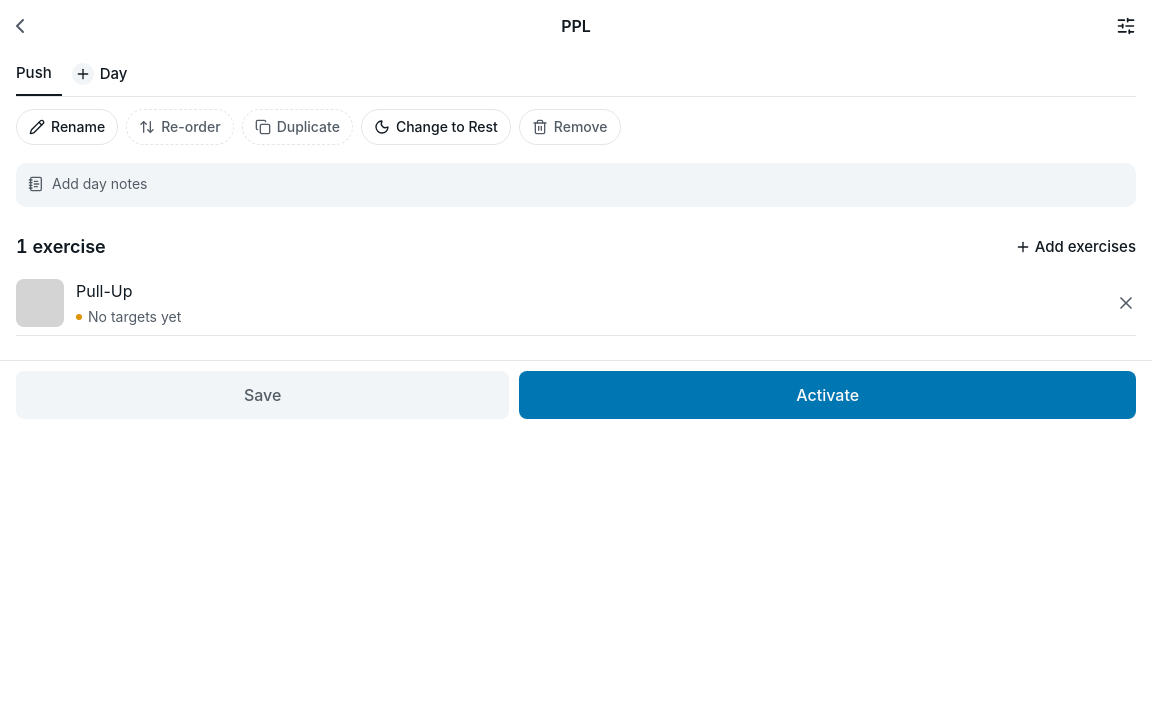
Test: ProgramEditorPage - settings drawer › Name edits the title through the draft
Click the button named "Program settings": (1114, 26) [1092,4,1136,48]
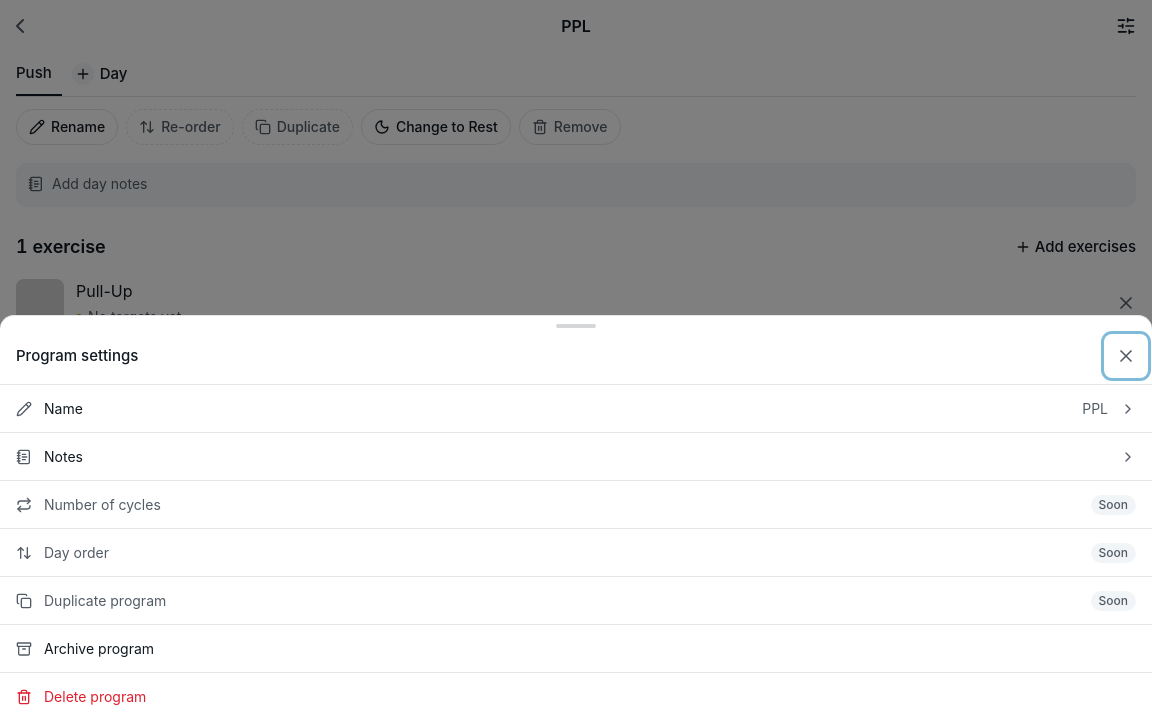
Click the button "Name PPL": (63, 408) [0,384,1151,432]
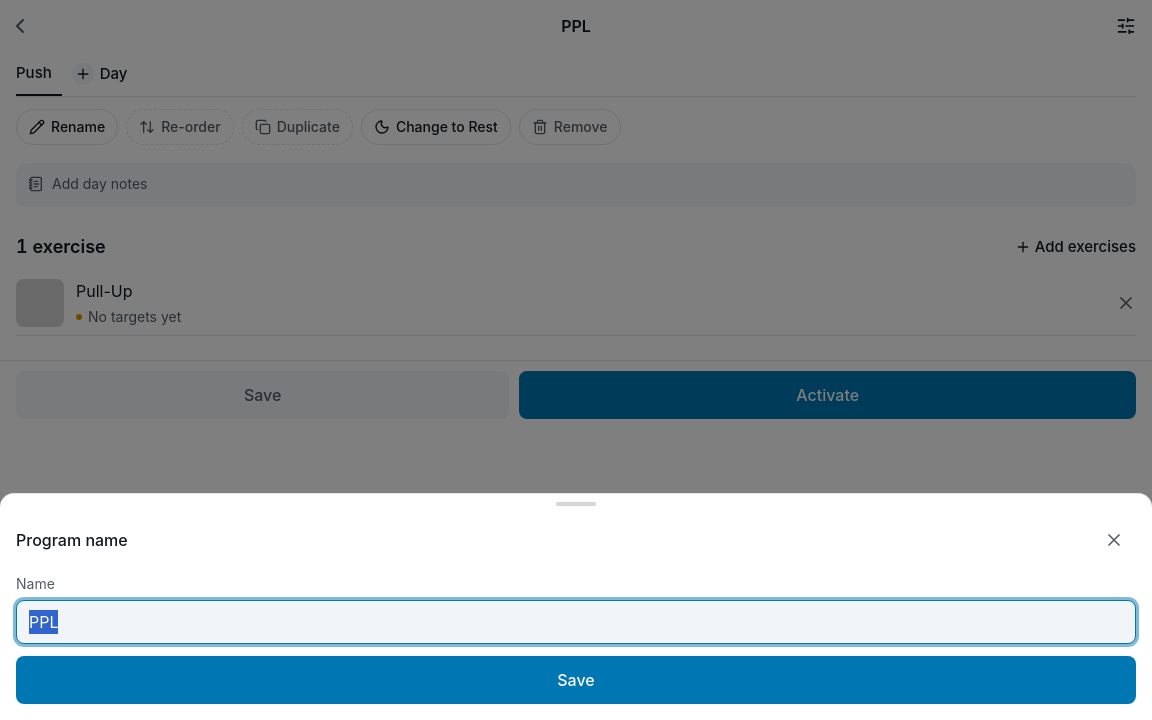
Replace the text in the field labelled "Name" with "Upper Lower": (576, 622) [16,600,1136,644]
Then press Enter
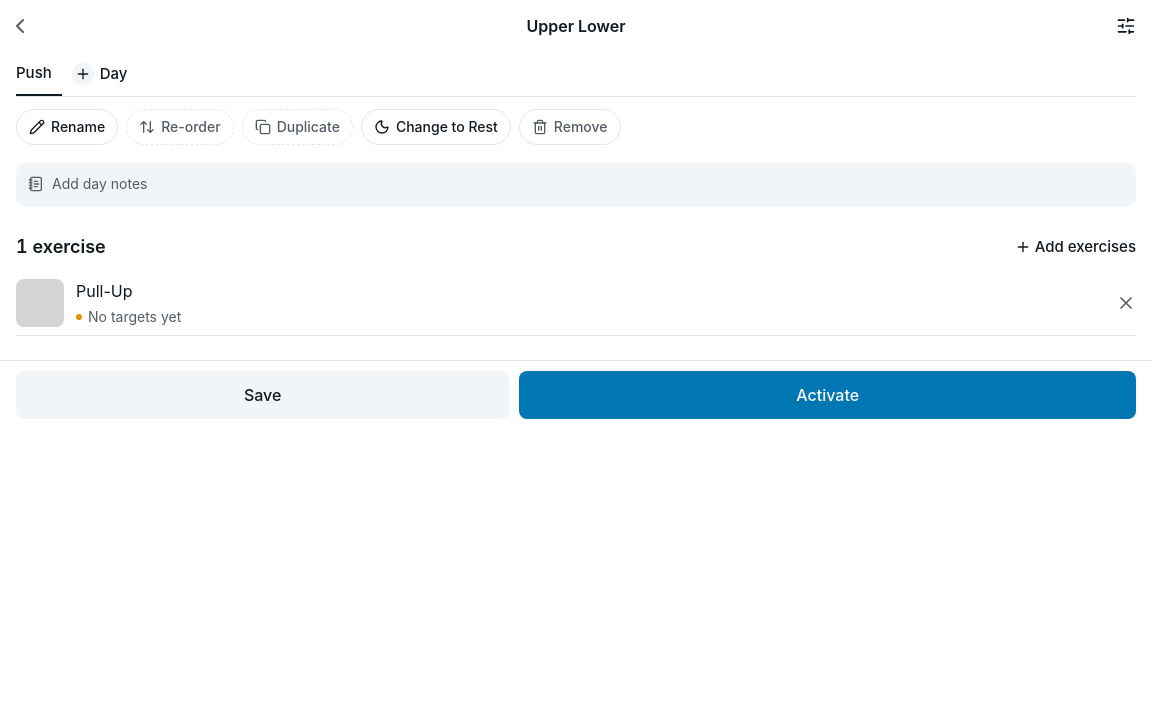
Now the heading "Upper Lower" is shown, box [526,16,626,36]
